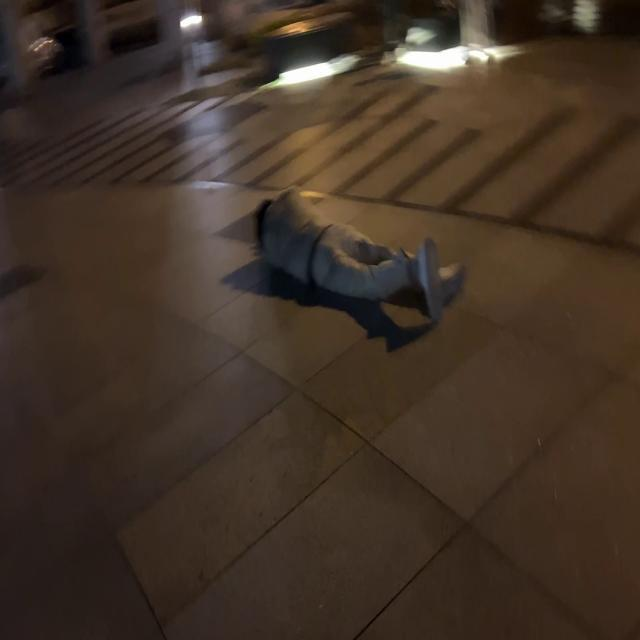Fall: (257, 187, 464, 324)
